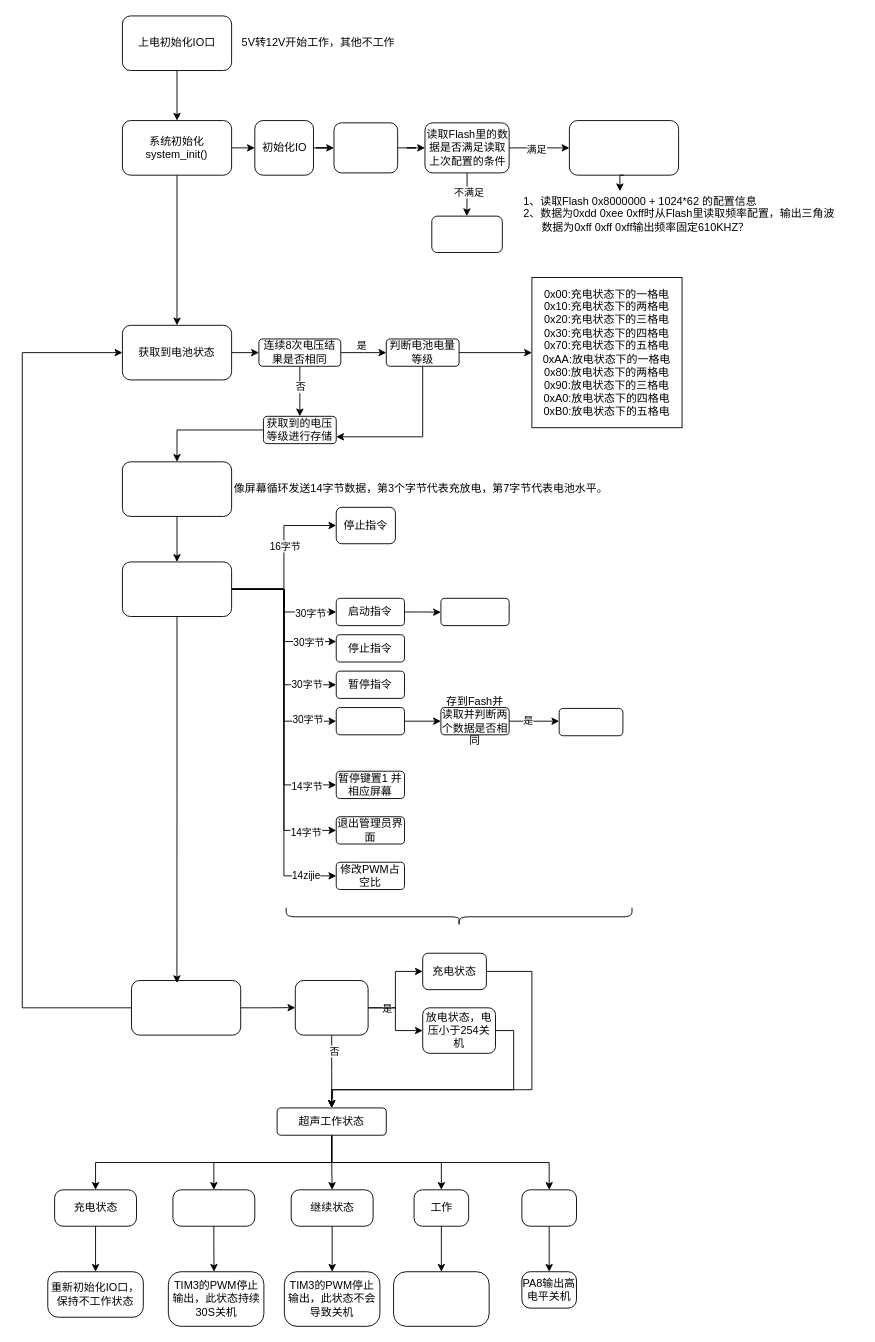
The diagram is 875 pixels wide and 1342 high, and some of its shapes have lost their labels. The box of each missing label's shape, as (x1, y1, x2, y2) in pixels:
PA8持续输出低电平保证不会因为软件关机: (440, 597, 509, 626)
从Flash读取AD9833需要输出频率: (568, 120, 679, 175)
修改超声参数: (335, 707, 404, 735)
停止状态: (172, 1189, 255, 1226)
关机: (521, 1189, 576, 1226)
初始化两个AD9833芯片: (333, 122, 398, 173)
判断是否拿到电量信息: (294, 980, 368, 1035)
向屏幕发送电池状态 (50ms执行一次): (121, 461, 232, 516)
四种工作模式: (131, 980, 241, 1035)
电压转换芯片开始工作，PWM输出4%占空比: (393, 1271, 489, 1326)
获取屏幕指令: (121, 561, 232, 617)
输出610KHz的三角波: (431, 215, 502, 253)
通知屏幕参数保存成功: (558, 708, 623, 736)
